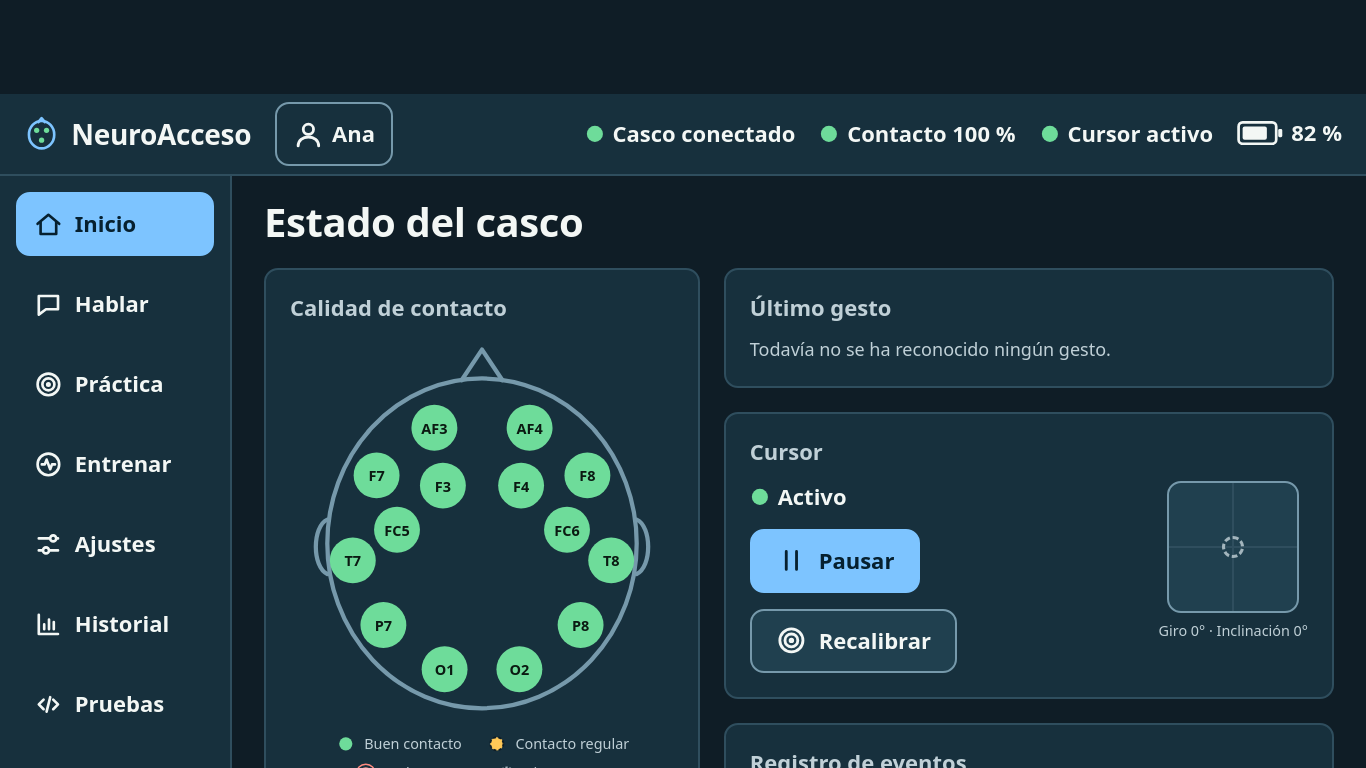
Scenario: navegación › el menú lleva a cada pantalla y marca la actual
The image size is (1366, 768).
(page scrolled)
Click the link "Práctica" at (99, 383), box [34, 368, 164, 398]
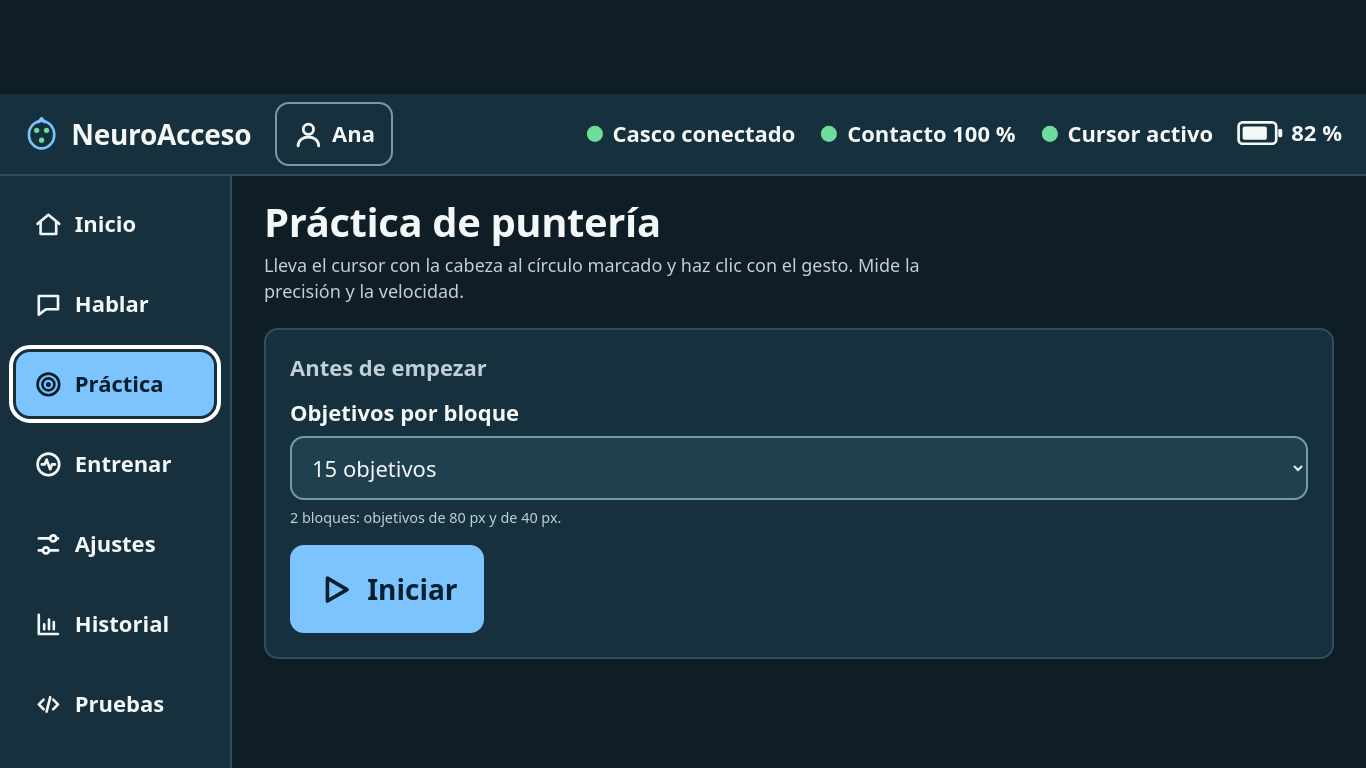
Expected: the link "Práctica" is marked as current, [16, 352, 214, 416]
Click the link "Entrenar" at (103, 463), box [34, 448, 171, 478]
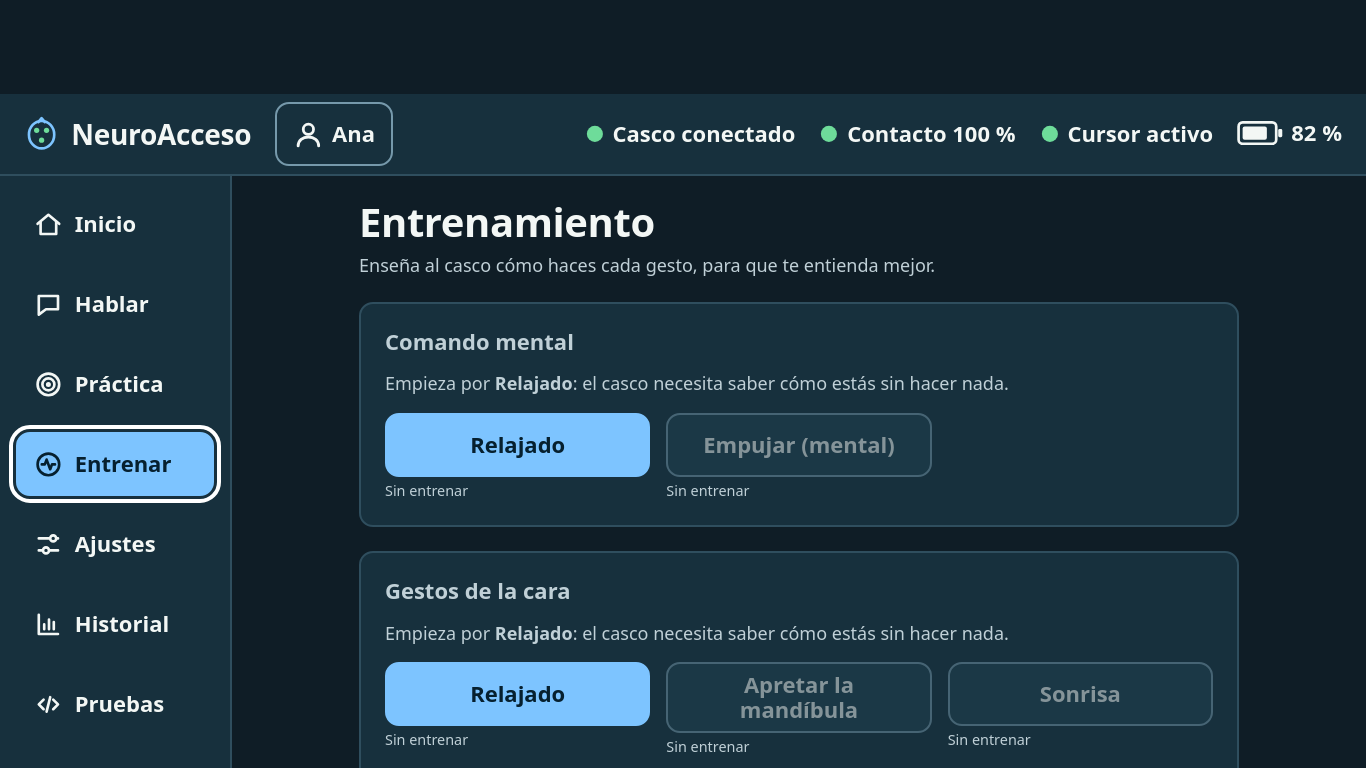
Expected: the link "Entrenar" is marked as current, [16, 432, 214, 496]
Click the link "Ajustes" at (95, 543), box [34, 528, 156, 558]
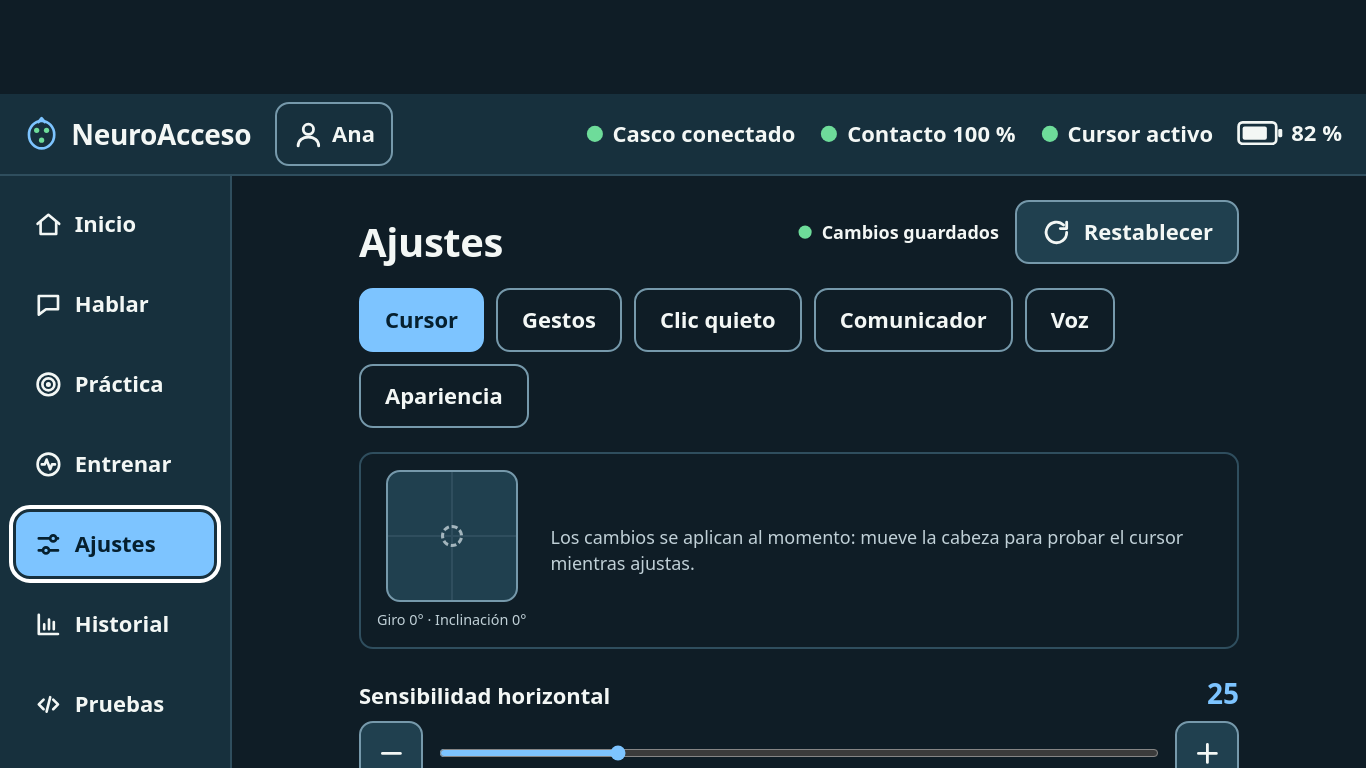
Expected: the link "Ajustes" is marked as current, [16, 512, 214, 576]
Click the link "Historial" at (102, 623), box [34, 608, 169, 638]
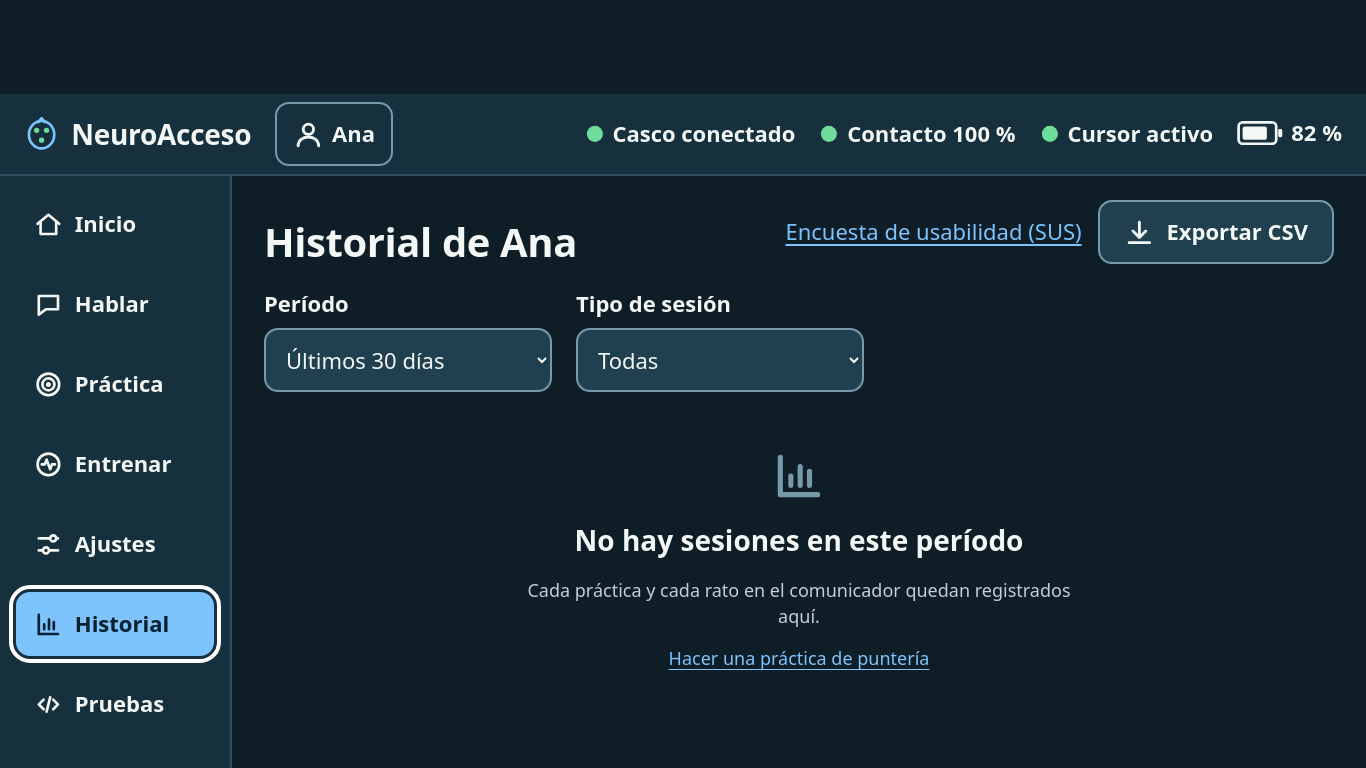
Expected: the link "Historial" is marked as current, [16, 592, 214, 656]
